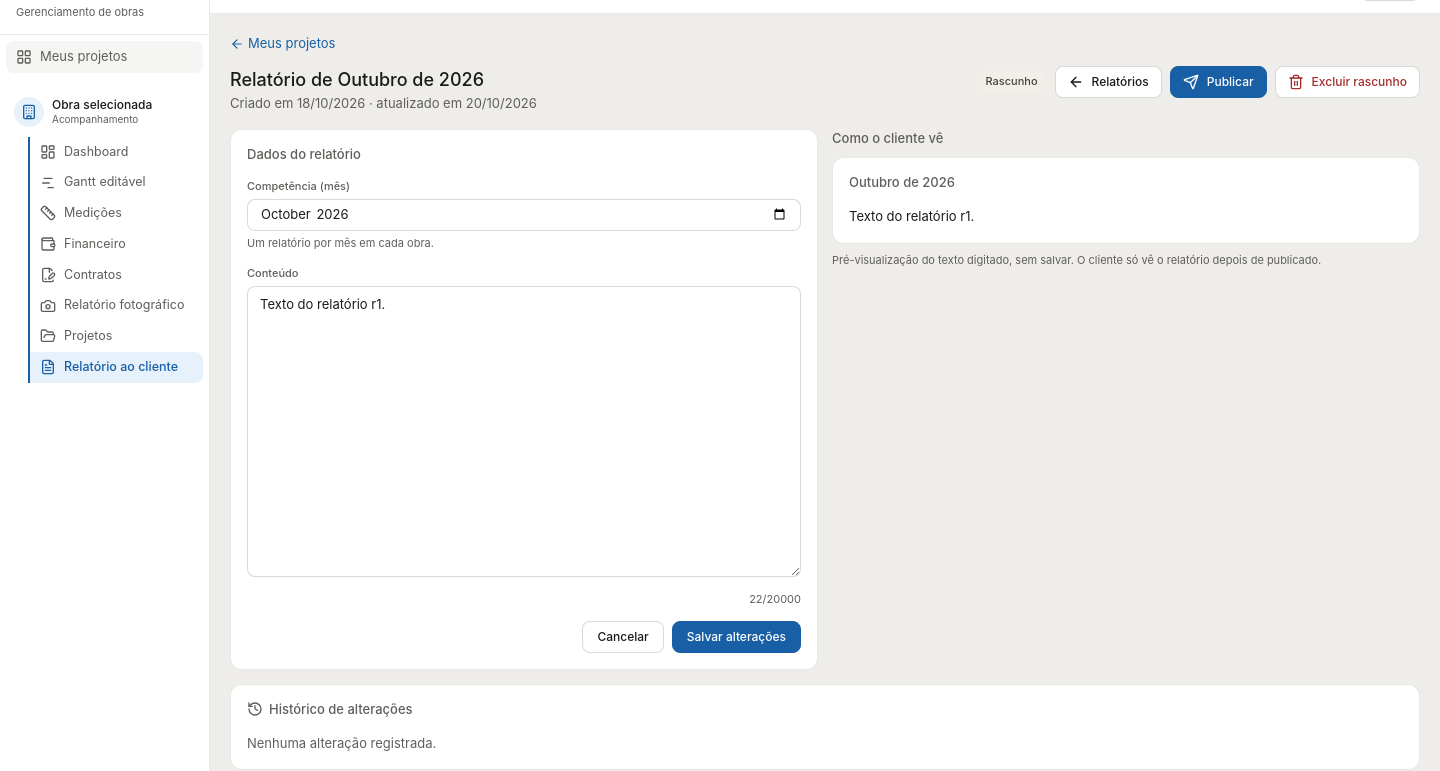
Relatório ao cliente (admin) - cache da visão do cliente › depois de publicar, a lista do cliente (onlyPublished=true) é relida e passa a mostrar o relatório
The image size is (1440, 771).
Expected: the text box labelled "Conteúdo" is shown, [247,286,801,577]
What coordinates should you click on to do the following:
click the button "Publicar"
I would click on:
 (1218, 82)
Its box is [1170,66,1267,98].
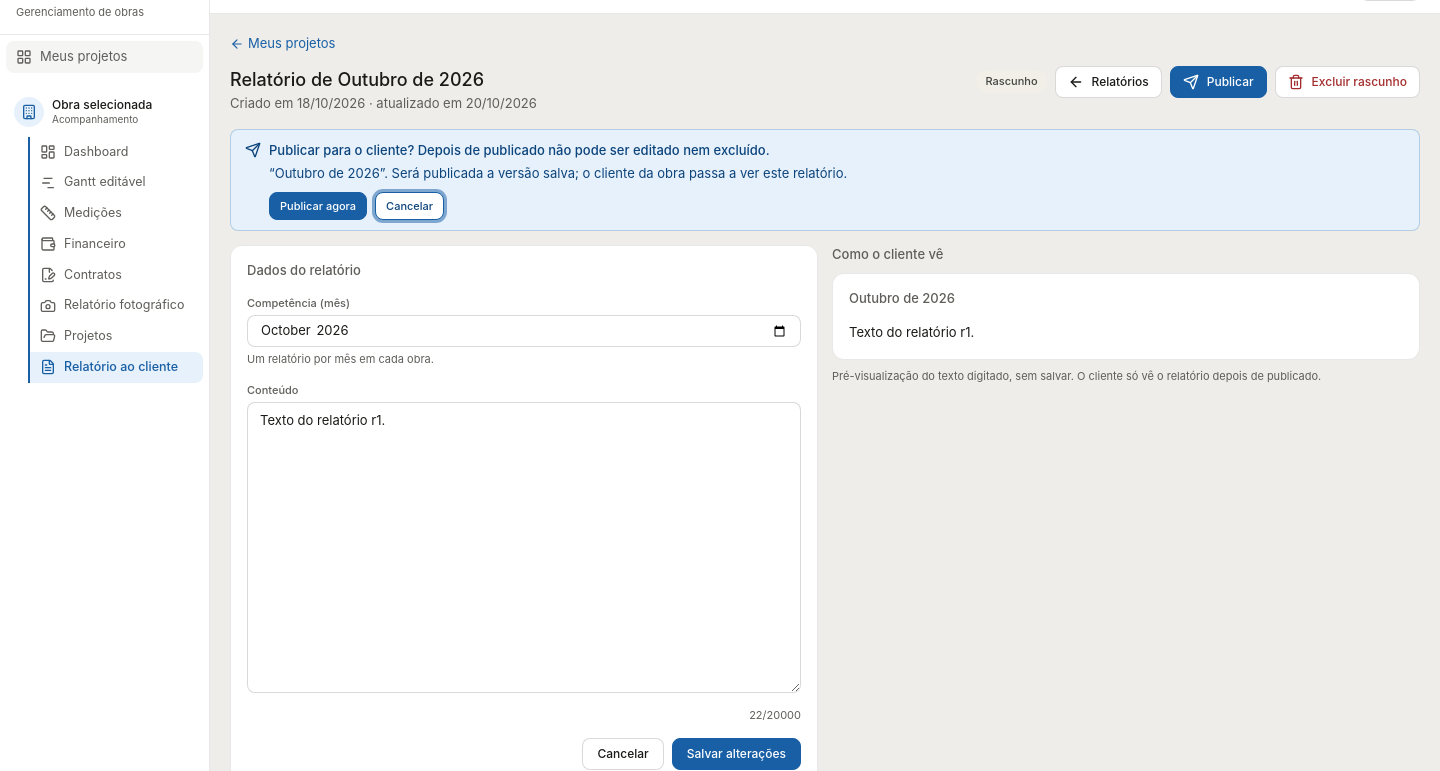
What coordinates should you click on to do the following:
click the button "Publicar agora"
I would click on:
 (318, 206)
Its box is [269,192,367,220].
(page scrolled)
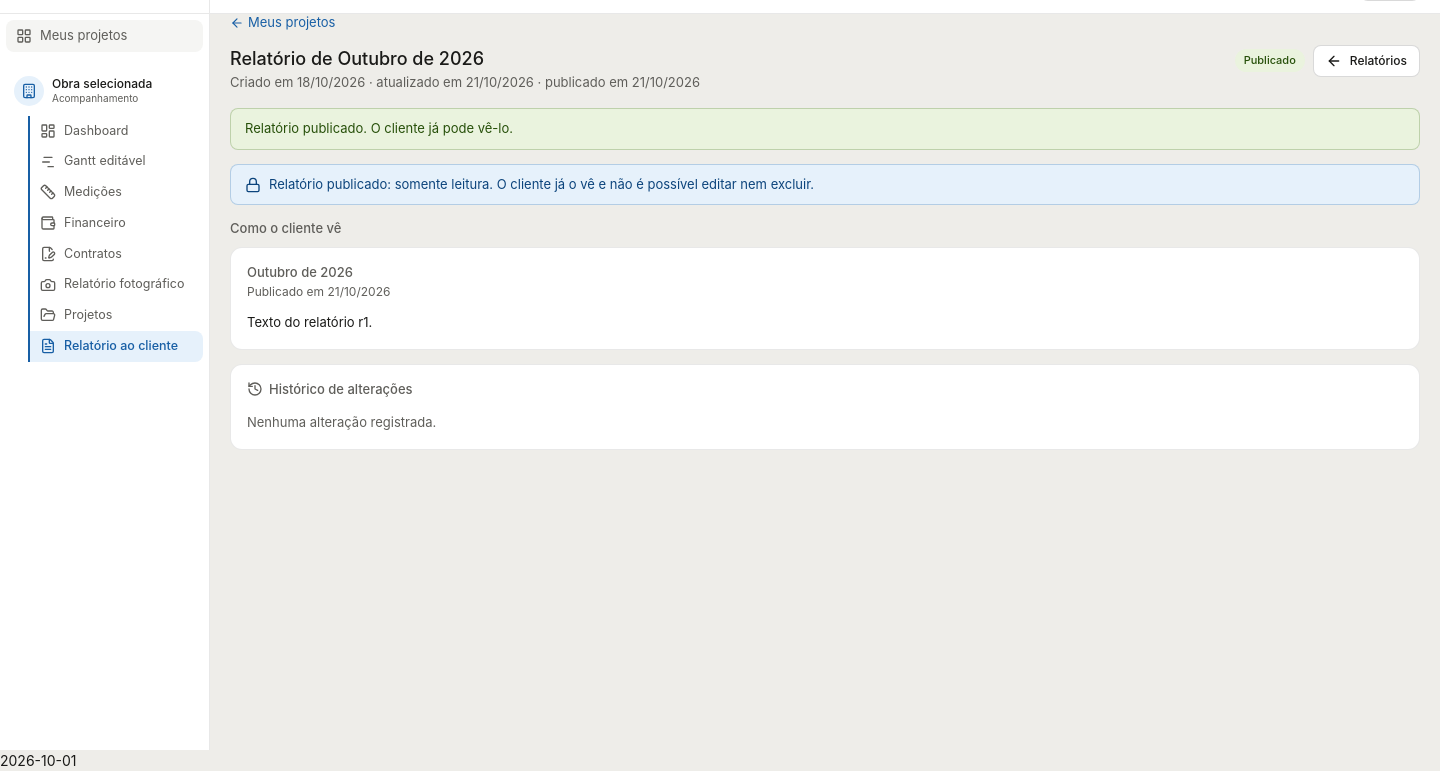
Expected: the text "Relatório publicado. O cliente já pode vê-lo." is shown, [245,120,513,136]
Expected: the number of list items is 1, [0,752,76,769]
